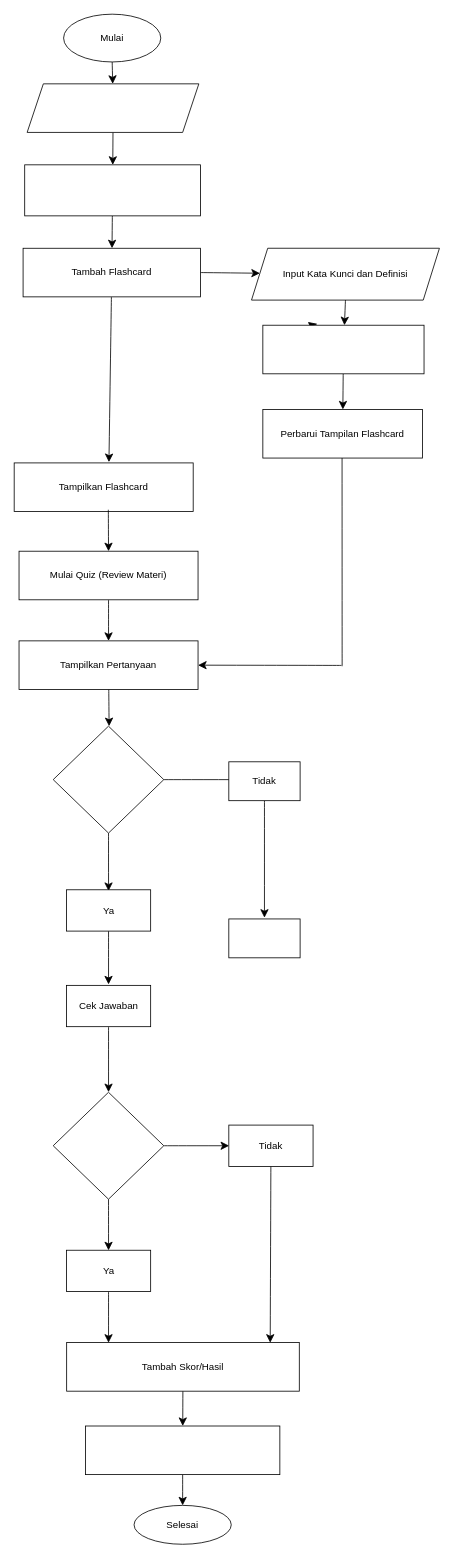
Image size: 454x1558. Some labels were removed from this diagram. Each missing label, with the box of its shape:
Ada Pertanyaan (Review): (52, 725, 164, 833)
Benar?: (52, 1091, 164, 1199)
Hapus Flashcard: (85, 1425, 280, 1475)
Inisialisasi UI: (24, 164, 200, 216)
Muat Flashcard: (26, 83, 199, 132)
Simpan ke JSON: (262, 324, 424, 374)
Tampilkan Hasil: (228, 918, 300, 958)
